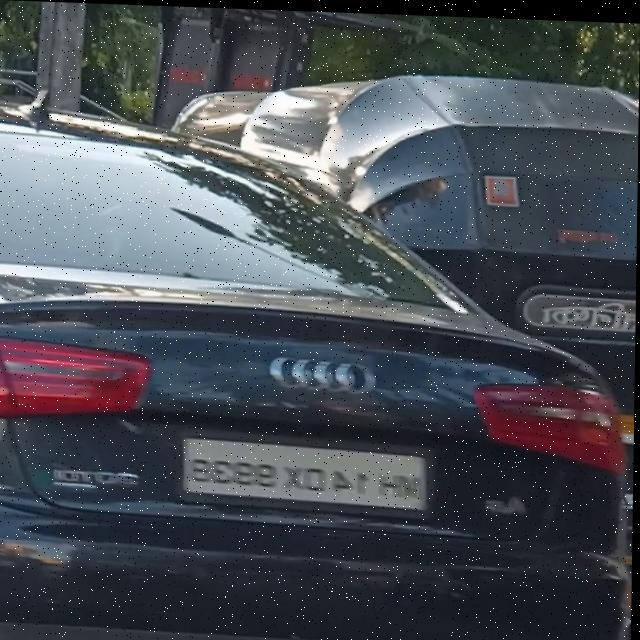plate: (180, 431, 438, 512)
